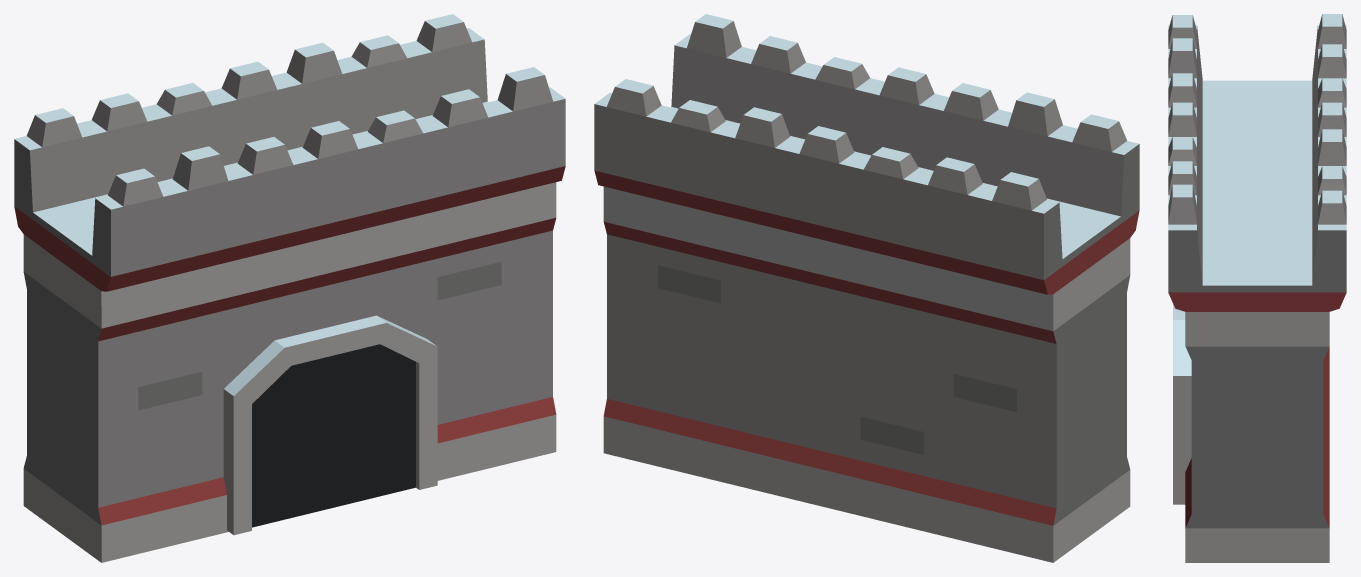
Rendered from SM_Bld_Knights_Castle_01_Snow.fbx.
The picture shows the model from 3 angles, left to right: view 1: azimuth 30°, elevation 25°; view 2: azimuth 150°, elevation 25°; view 3: azimuth 270°, elevation 25°; orthographic projection. The views are drawn at different scales.
Visible parts, largest first — view 1: SM_Bld_Knights_Castle_01_Snow; view 2: SM_Bld_Knights_Castle_01_Snow; view 3: SM_Bld_Knights_Castle_01_Snow.
Boxes of the visible parts, x1=… form: SM_Bld_Knights_Castle_01_Snow: x1=14, y1=14, x2=565, y2=562; SM_Bld_Knights_Castle_01_Snow: x1=594, y1=14, x2=1139, y2=562; SM_Bld_Knights_Castle_01_Snow: x1=1168, y1=14, x2=1346, y2=562.
Size of the model in its own units: 154 by 125 by 56.51.
1 material, 1 textured.
